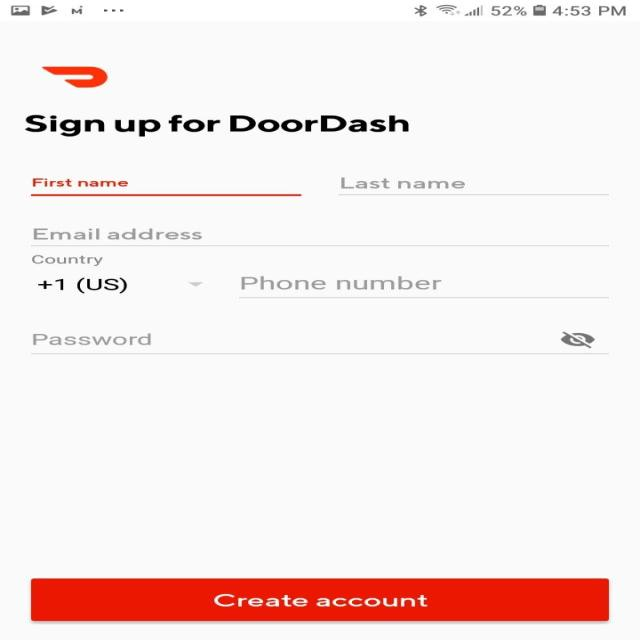EditText: (31, 330, 609, 354), (31, 228, 609, 246), (239, 276, 609, 298), (31, 178, 302, 197), (338, 177, 609, 195)
Icon: (559, 331, 595, 348), (188, 282, 202, 286)
Image: (42, 66, 108, 88)
Text: (25, 114, 409, 137), (240, 276, 441, 290), (33, 228, 202, 240), (37, 276, 128, 294), (340, 177, 465, 189), (32, 333, 151, 345), (31, 254, 103, 266), (32, 178, 128, 186)
TextButton: (31, 578, 609, 621)
